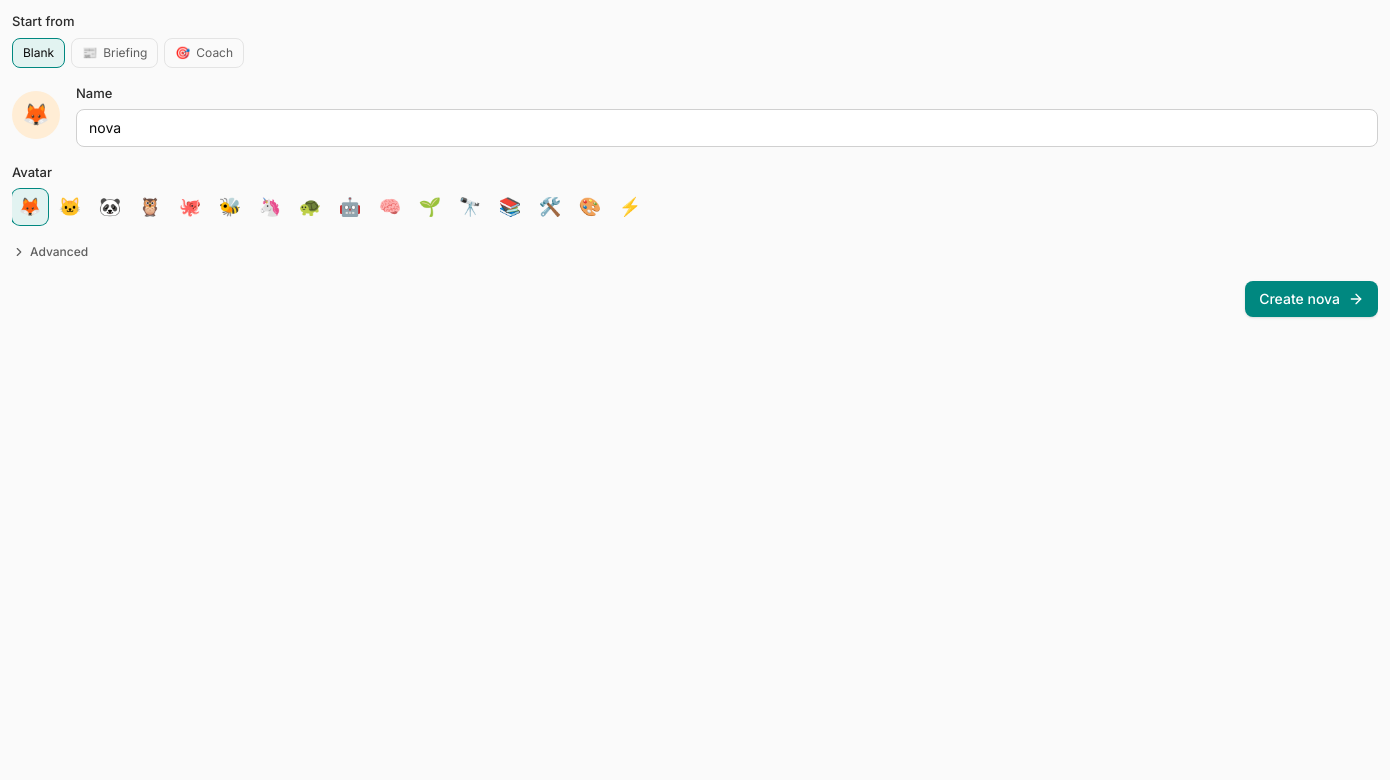
Test: New peko: starter seeds › shows what a starter seed would set up and needs it accepted
This screenshot has width=1390, height=780.
Click the button "📰 Briefing" at (115, 52), box [71, 38, 158, 68]
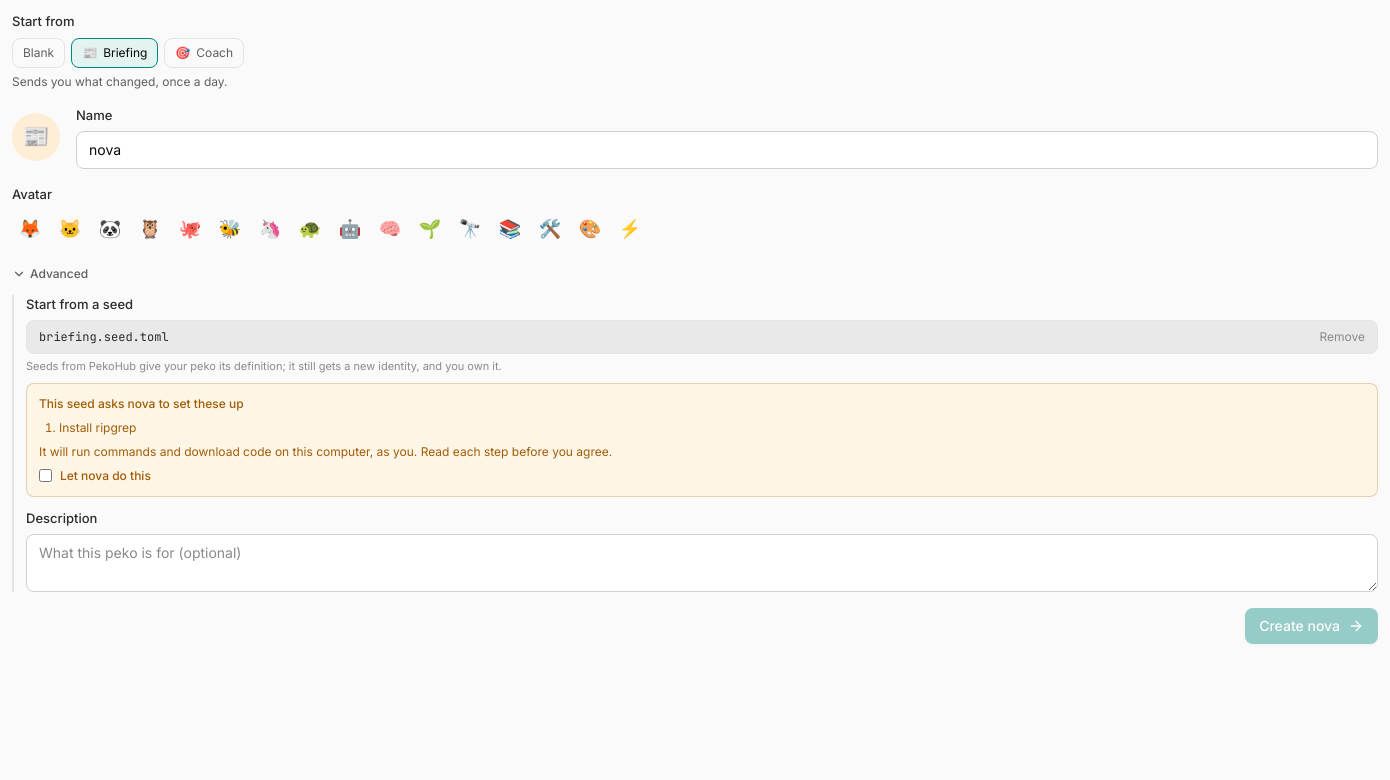
Expected: the element with test id "new-peko-setup" shows "Install ripgrep", [59, 420, 136, 434]
Expected: the button "Create nova" is disabled, [1245, 608, 1378, 644]
Click the checkbox with test id "new-peko-setup-accept" at (46, 476), box [39, 469, 52, 482]
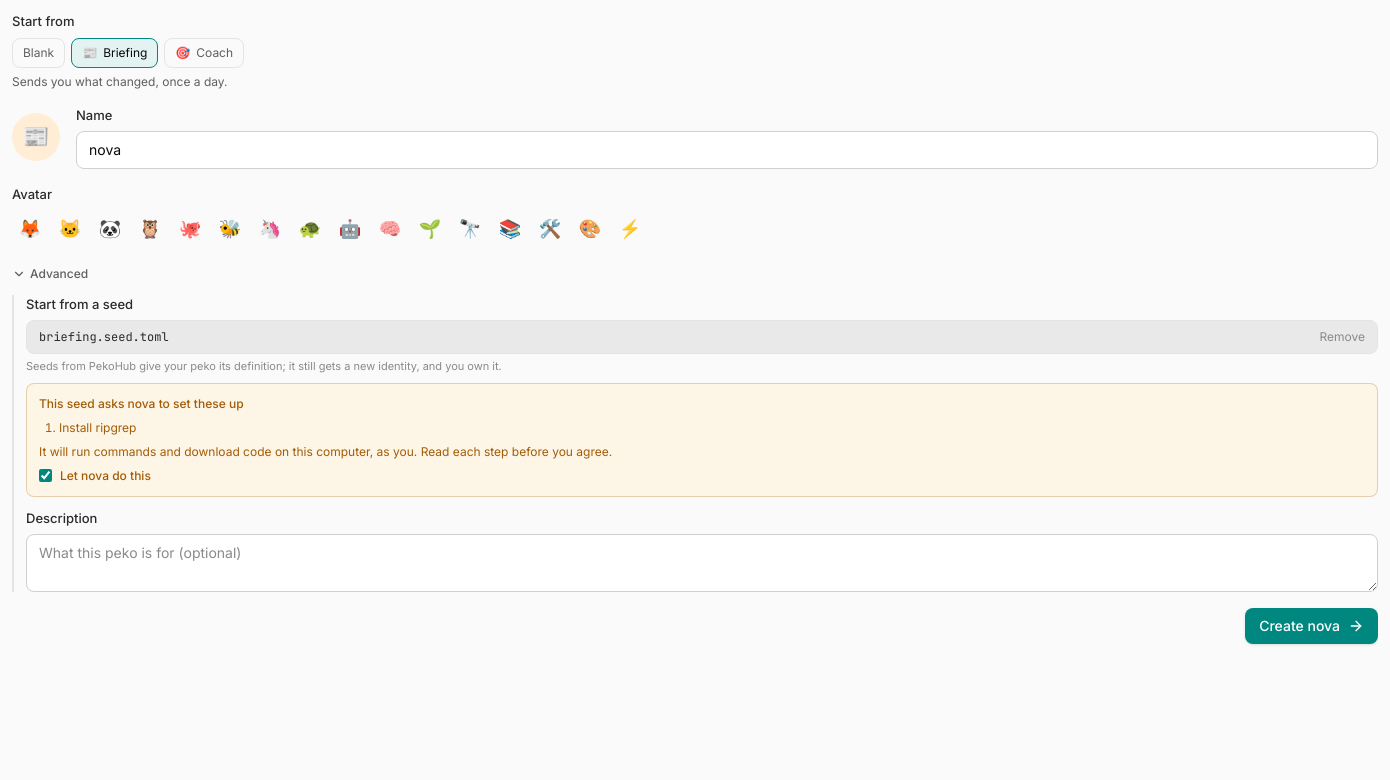
Expected: the button "Create nova" is enabled, [1245, 608, 1378, 644]
